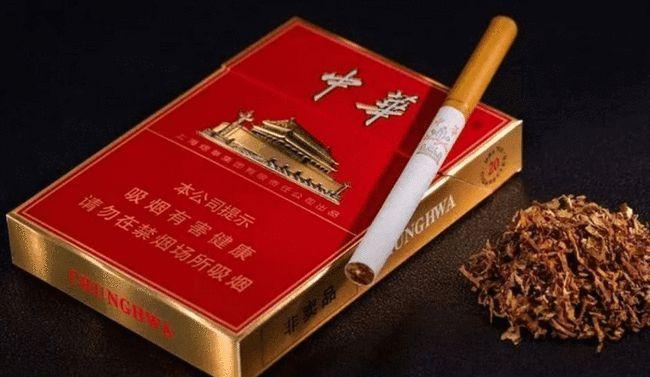smoke: (345, 16, 518, 288)
